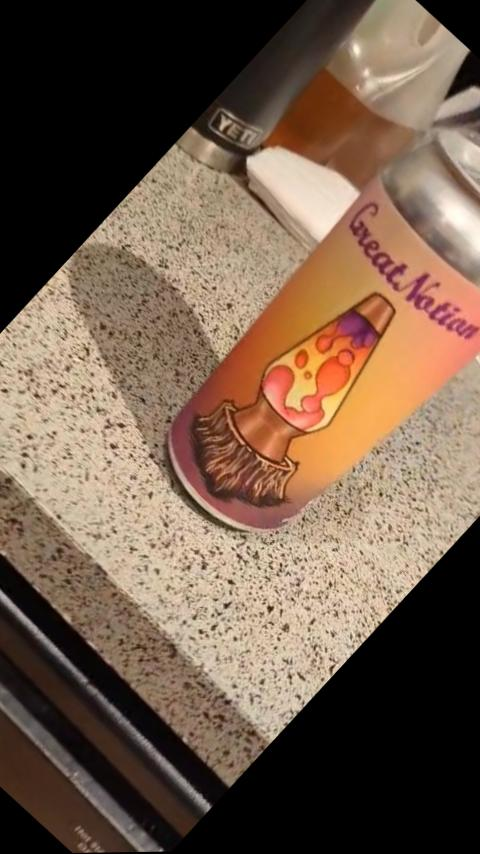metal: (168, 131, 479, 528)
